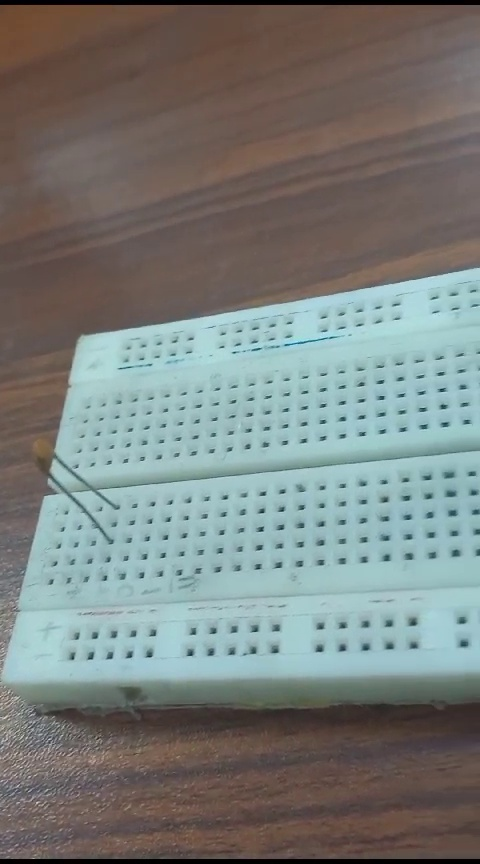ceramic capacitor: (24, 440, 131, 523)
